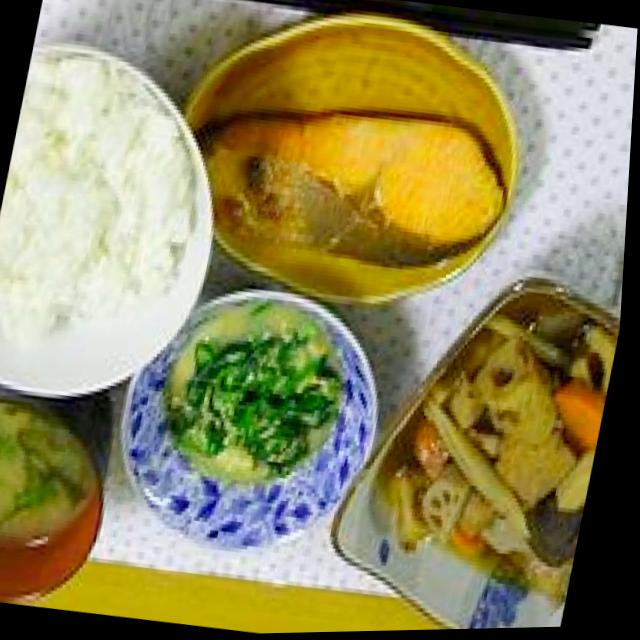熟制海鲜: (165, 80, 530, 291)
